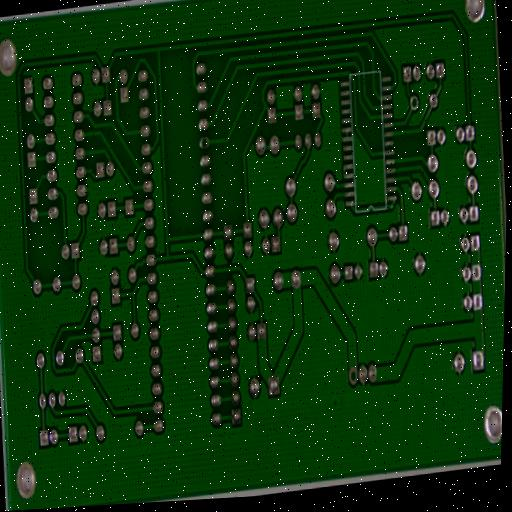missing_hole: (346, 364, 360, 390), (408, 91, 421, 115), (199, 132, 211, 154)
